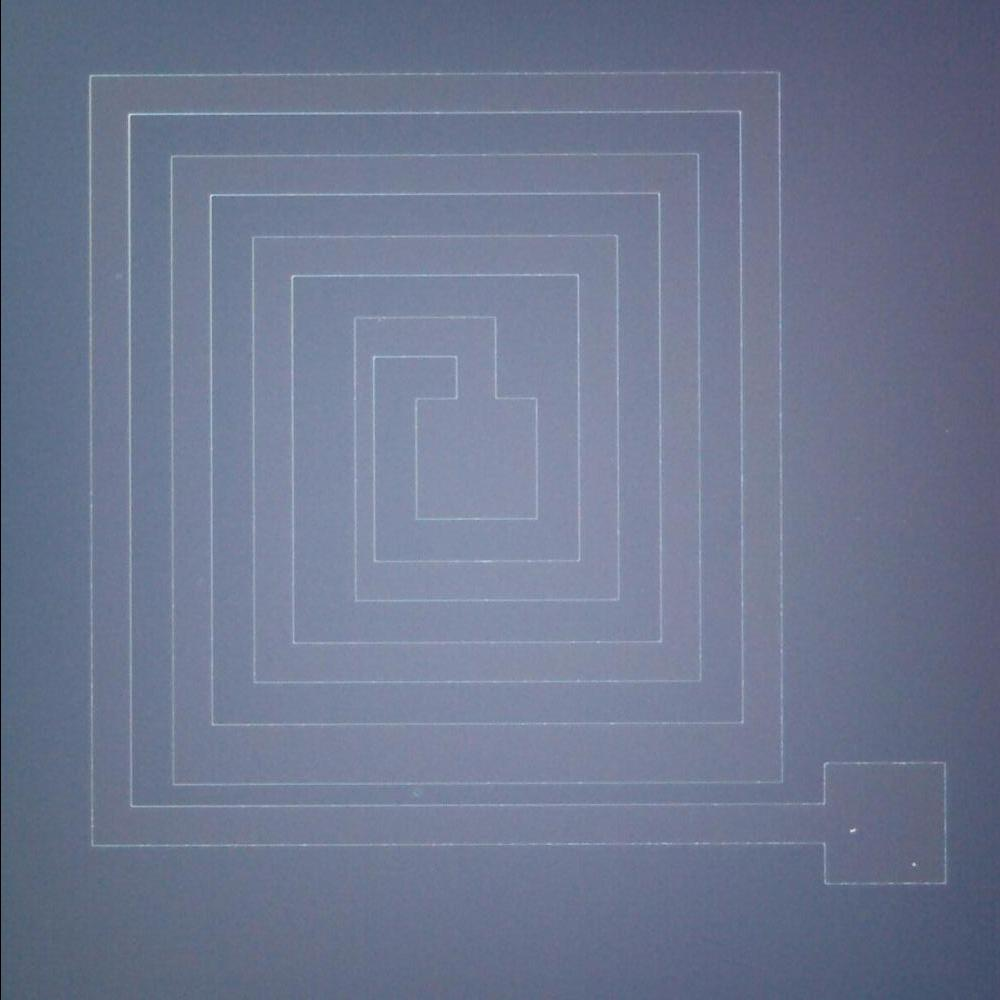dot: (836, 814, 870, 845), (897, 848, 923, 880)
fat circuit: (160, 716, 793, 792)
thin circuit: (328, 304, 392, 610)
